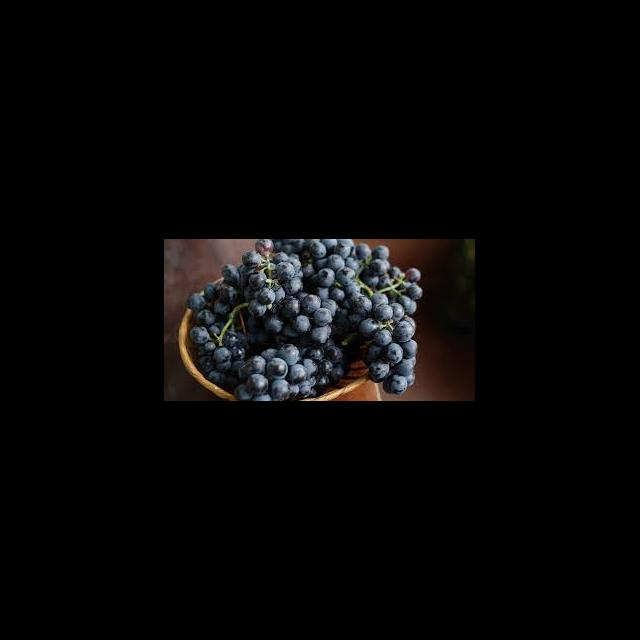grape: (186, 239, 424, 400)
